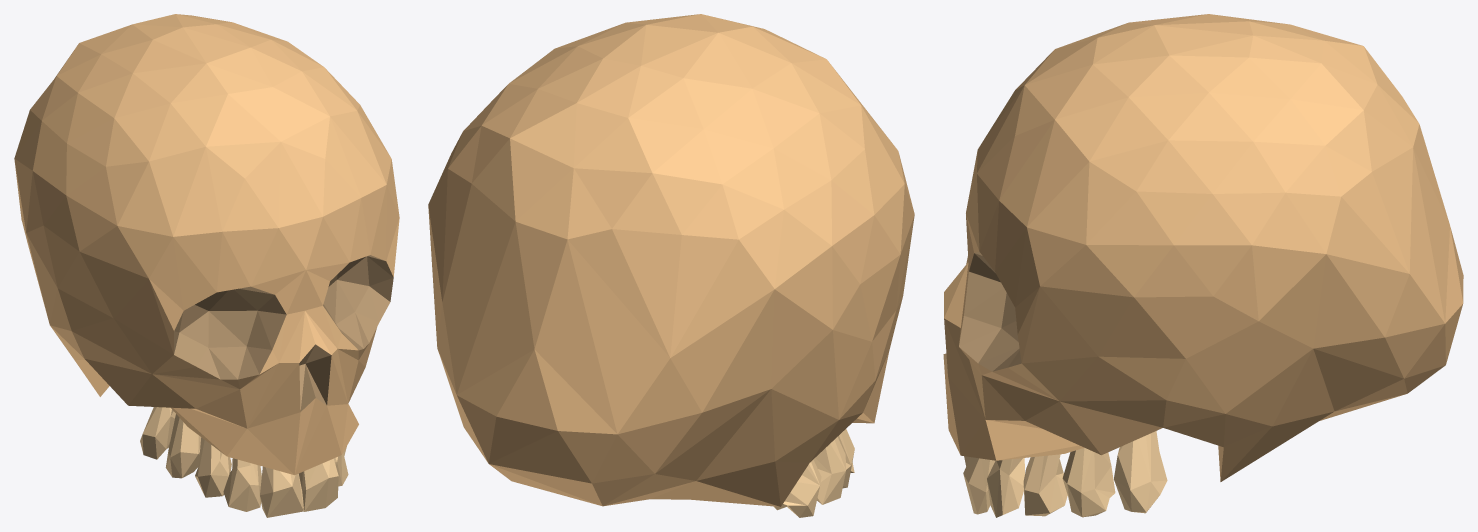
The model's file is WF_LP_HT_Props_Skull.001.fbx.
The picture shows the model from 3 angles, left to right: view 1: azimuth 30°, elevation 25°; view 2: azimuth 150°, elevation 25°; view 3: azimuth 270°, elevation 25°; orthographic projection. The views are drawn at different scales.
Visible parts, largest first — view 1: WF_LP_HT_Props_Skull.001; view 2: WF_LP_HT_Props_Skull.001; view 3: WF_LP_HT_Props_Skull.001.
Part boxes in pixels (left/top/right/bottom): WF_LP_HT_Props_Skull.001: left=14, top=14, right=399, bottom=517; WF_LP_HT_Props_Skull.001: left=428, top=14, right=914, bottom=517; WF_LP_HT_Props_Skull.001: left=943, top=14, right=1463, bottom=517.
Size of the model in its own units: 0.2361 by 0.2873 by 0.2914.
